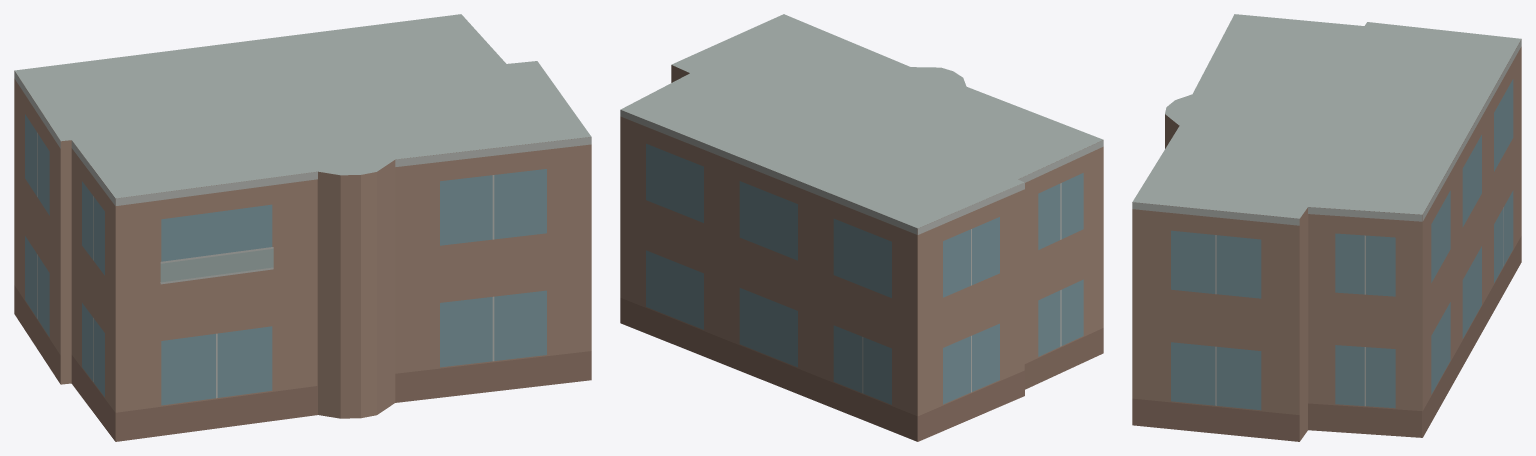
The model's file is survey-upis-32621796.glb.
The picture shows the model from 3 angles, left to right: view 1: azimuth 30°, elevation 25°; view 2: azimuth 150°, elevation 25°; view 3: azimuth 270°, elevation 25°; orthographic projection. The views are drawn at different scales.
Parts seen in each view (by area): view 1: survey-upis-32621796.tmp; view 2: survey-upis-32621796.tmp; view 3: survey-upis-32621796.tmp.
Part boxes in pixels (x1,y1,x2,y2): survey-upis-32621796.tmp: (14, 14, 591, 441); survey-upis-32621796.tmp: (620, 14, 1103, 441); survey-upis-32621796.tmp: (1132, 14, 1521, 441).
Size of the model in its own units: 15.15 by 7.7 by 12.18.
